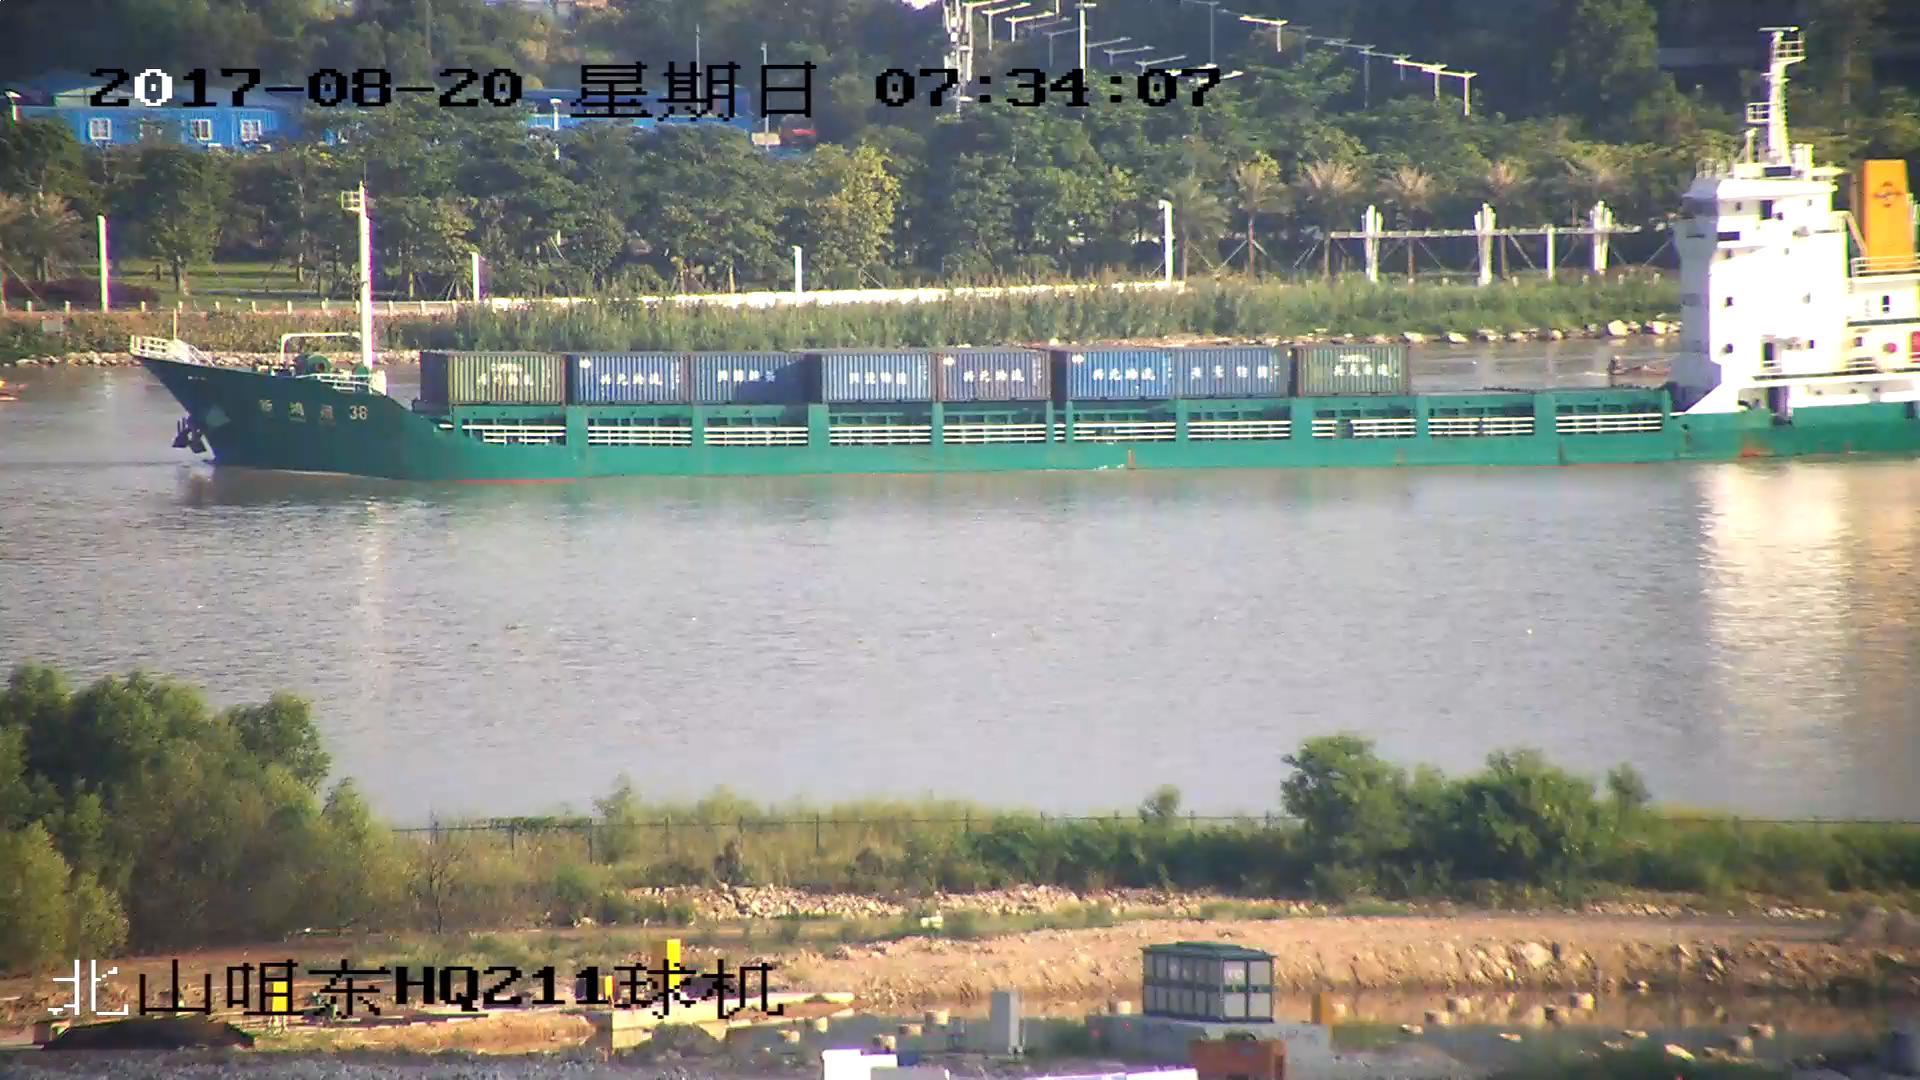general cargo ship: (129, 112, 1919, 485)
